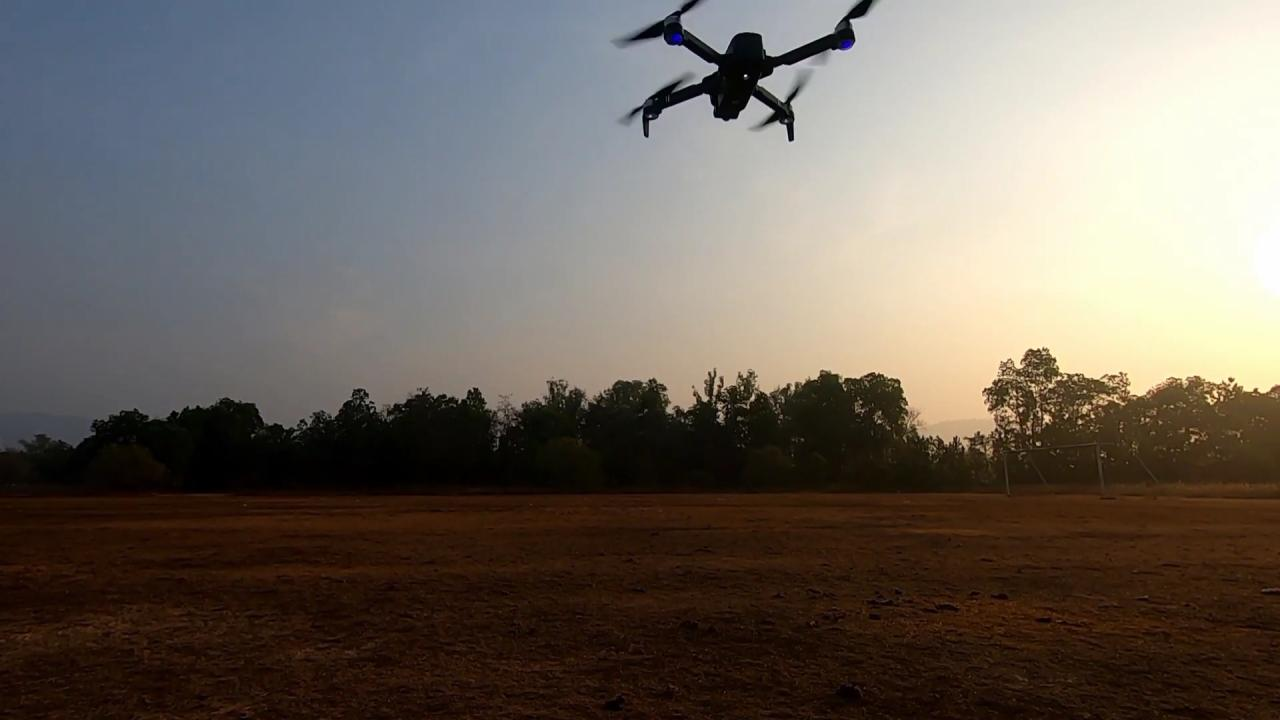Drone: (598, 0, 886, 155)
